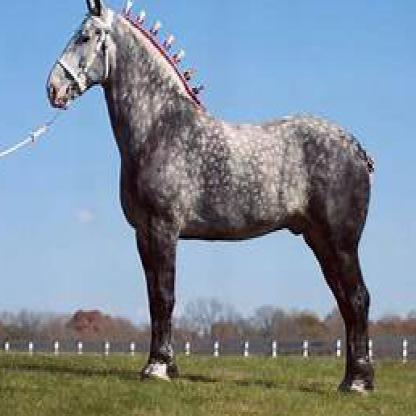horse: (46, 0, 376, 394)
